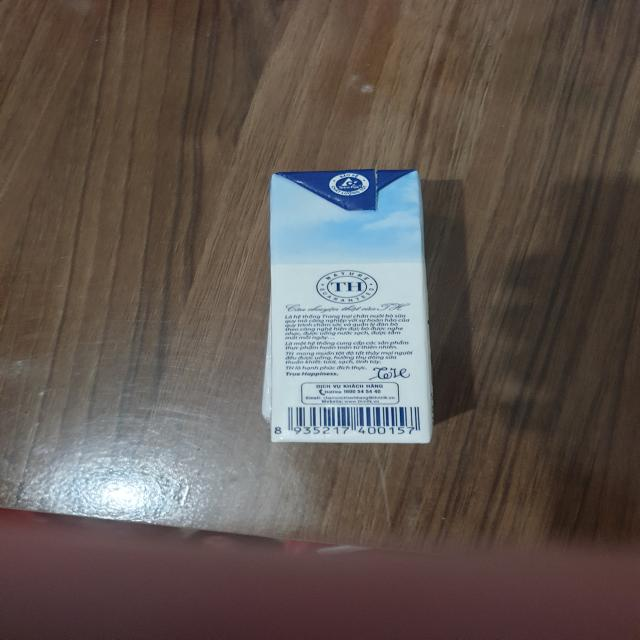TH: (269, 172, 433, 443)
